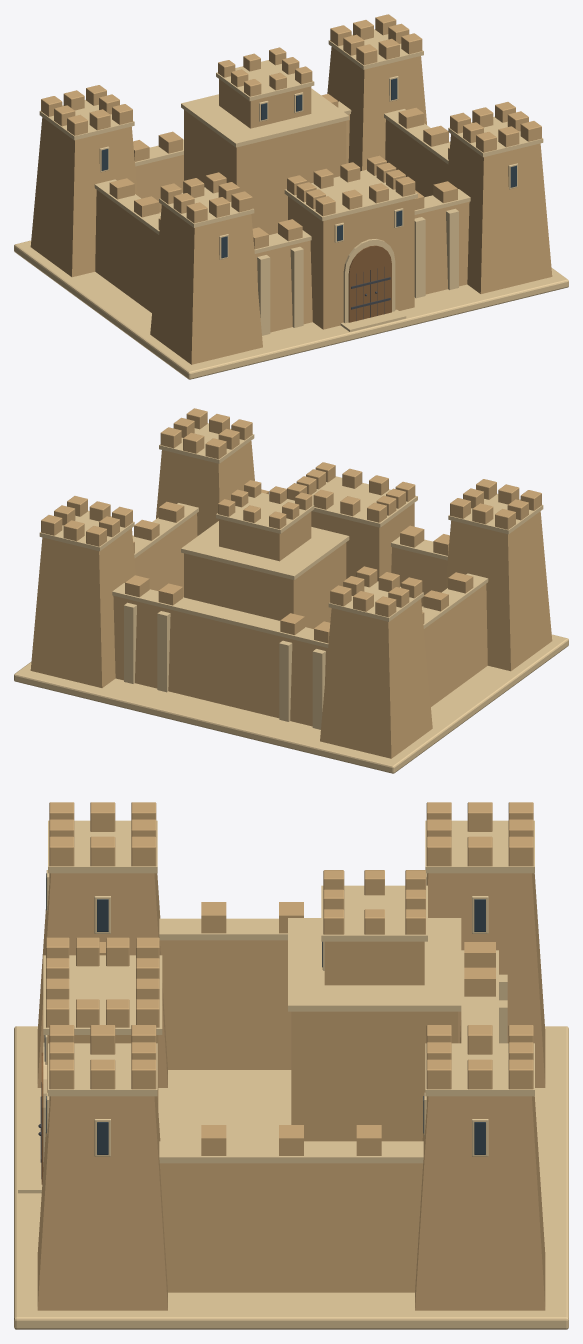
File: castle_desert_fortress.glb
3 renders of one model, top to bottom at view 1: azimuth 30°, elevation 25°; view 2: azimuth 150°, elevation 25°; view 3: azimuth 270°, elevation 25°, orthographic. The views are drawn at different scales.
Visible parts, largest first — view 1: Desert tapered corner bastion, Desert fortress sandstone base, Desert tapered corner bastion.002, Desert tapered corner bastion.001, Desert inner keep, Desert central gatehouse, Desert tapered corner bastion.003, Desert battered end wall, Desert battered side wall, Desert inner keep roof cap, Desert main gate closed wooden gate, Desert battered side wall.001 (+18 smaller); view 2: Desert tapered corner bastion.001, Desert battered end wall.001, Desert fortress sandstone base, Desert tapered corner bastion.003, Desert tapered corner bastion, Desert inner keep, Desert battered side wall, Desert tapered corner bastion.002, Desert inner keep roof cap, Desert central gatehouse, Desert end wall coping.001, Desert upper watch room (+15 smaller); view 3: Desert fortress sandstone base, Desert battered side wall.001, Desert tapered corner bastion.002, Desert tapered corner bastion.003, Desert inner keep, Desert battered side wall, Desert tapered corner bastion.001, Desert inner keep roof cap, Desert tapered corner bastion, Desert side wall coping.001, Desert upper watch room, Desert gatehouse roof cap (+34 smaller).
Boxes of the visible parts, left/top/right/bottom form: Desert tapered corner bastion: left=150, top=205, right=262, bottom=364; Desert fortress sandstone base: left=14, top=240, right=568, bottom=379; Desert tapered corner bastion.002: left=447, top=134, right=552, bottom=293; Desert tapered corner bastion.001: left=30, top=117, right=137, bottom=277; Desert inner keep: left=184, top=110, right=346, bottom=234; Desert central gatehouse: left=288, top=196, right=414, bottom=329; Desert tapered corner bastion.003: left=327, top=47, right=426, bottom=171; Desert battered end wall: left=255, top=201, right=469, bottom=332; Desert battered side wall: left=95, top=190, right=158, bottom=312; Desert inner keep roof cap: left=181, top=88, right=349, bottom=147; Desert main gate closed wooden gate: left=348, top=245, right=391, bottom=322; Desert battered side wall.001: left=385, top=119, right=448, bottom=197; Desert tapered corner bastion.001: left=320, top=599, right=432, bottom=758; Desert battered end wall.001: left=113, top=595, right=327, bottom=726; Desert fortress sandstone base: left=14, top=634, right=568, bottom=773; Desert tapered corner bastion.003: left=30, top=528, right=135, bottom=687; Desert tapered corner bastion: left=445, top=511, right=552, bottom=671; Desert inner keep: left=184, top=542, right=346, bottom=628; Desert battered side wall: left=424, top=584, right=487, bottom=706; Desert tapered corner bastion.002: left=156, top=441, right=254, bottom=535; Desert inner keep roof cap: left=181, top=521, right=349, bottom=579; Desert central gatehouse: left=311, top=503, right=414, bottom=581; Desert end wall coping.001: left=112, top=583, right=328, bottom=647; Desert upper watch room: left=219, top=512, right=311, bottom=561; Desert fortress sandstone base: left=14, top=1026, right=568, bottom=1329; Desert battered side wall.001: left=160, top=1163, right=422, bottom=1292; Desert tapered corner bastion.002: left=37, top=1096, right=167, bottom=1310; Desert tapered corner bastion.003: left=415, top=1096, right=545, bottom=1310; Desert inner keep: left=291, top=1011, right=457, bottom=1141; Desert battered side wall: left=159, top=940, right=291, bottom=1069; Desert tapered corner bastion.001: left=426, top=873, right=545, bottom=1087; Desert inner keep roof cap: left=288, top=918, right=461, bottom=1011; Desert tapered corner bastion: left=37, top=873, right=167, bottom=1087; Desert side wall coping.001: left=159, top=1141, right=423, bottom=1163; Desert upper watch room: left=324, top=941, right=424, bottom=985; Desert gatehouse roof cap: left=43, top=955, right=162, bottom=1034.
Size of the model in its own units: 25 by 11.55 by 20.
